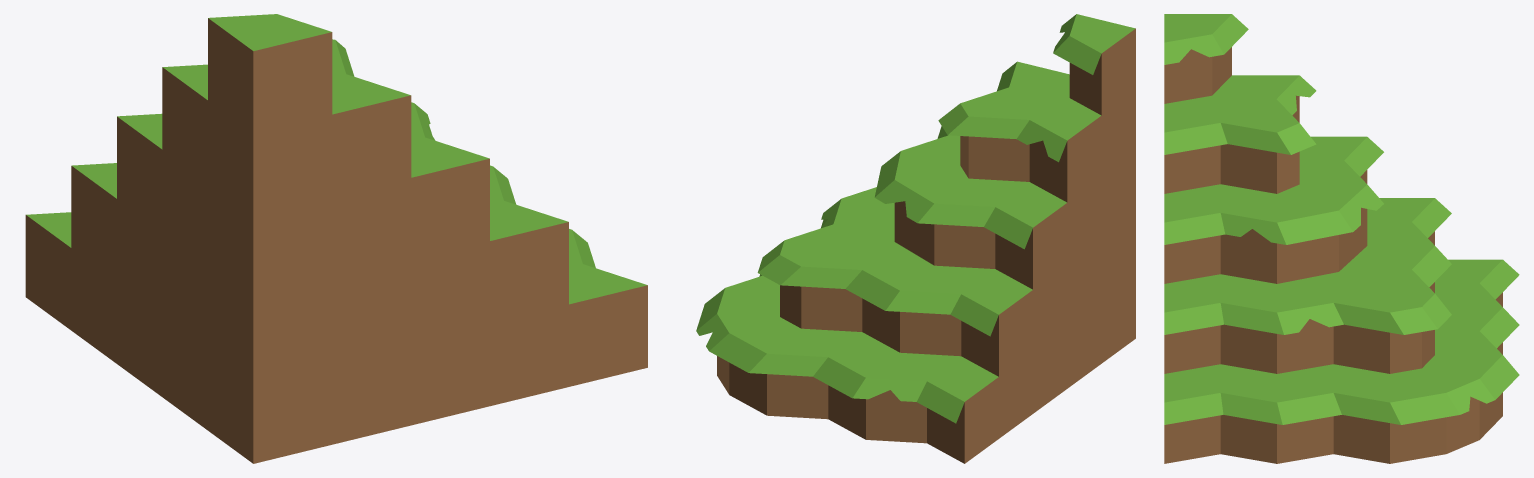
Rendered from cliff_stepsCorner_rock.glb.
3 renders of one model, left to right at view 1: azimuth 30°, elevation 25°; view 2: azimuth 150°, elevation 25°; view 3: azimuth 270°, elevation 25°, orthographic. The views are drawn at different scales.
Parts seen in each view (by area): view 1: cliff_stepsCorner_rock; view 2: cliff_stepsCorner_rock; view 3: cliff_stepsCorner_rock.
Boxes of the visible parts, box(x1,y1,x2,y2) form: cliff_stepsCorner_rock: box(25, 14, 647, 463); cliff_stepsCorner_rock: box(696, 14, 1135, 463); cliff_stepsCorner_rock: box(1164, 14, 1519, 463).
Bounding box in the file's own units: 1.05 × 1 × 1.05.
